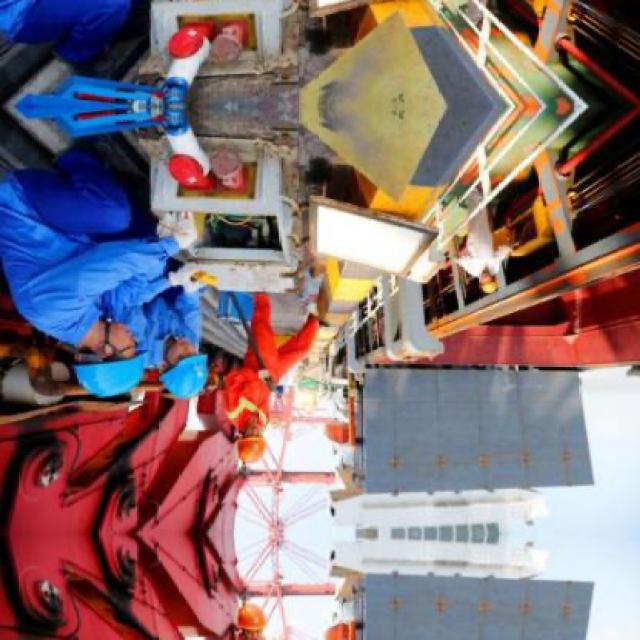con casco: (44, 297, 147, 402), (127, 322, 222, 395), (205, 418, 293, 480)
